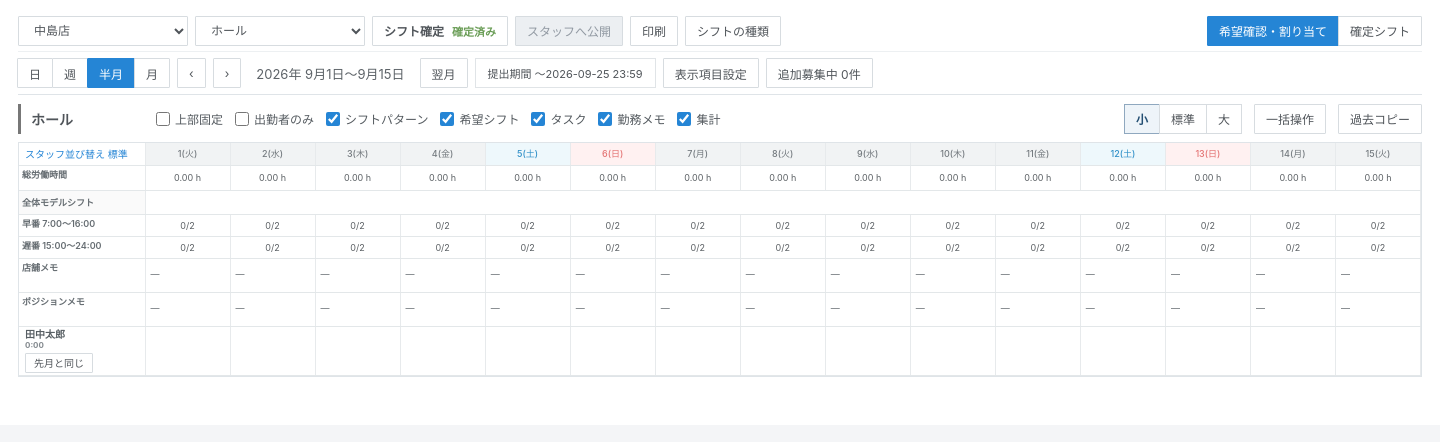
Test: 店舗を切り替えるとシフト表のスタッフも切り替わる
expect the text "田中太郎" is shown: met, box [25,328,65,340]
Select "新田店" in the dropdown named "店舗" at x=103, y=30, box [18,16,188,46]
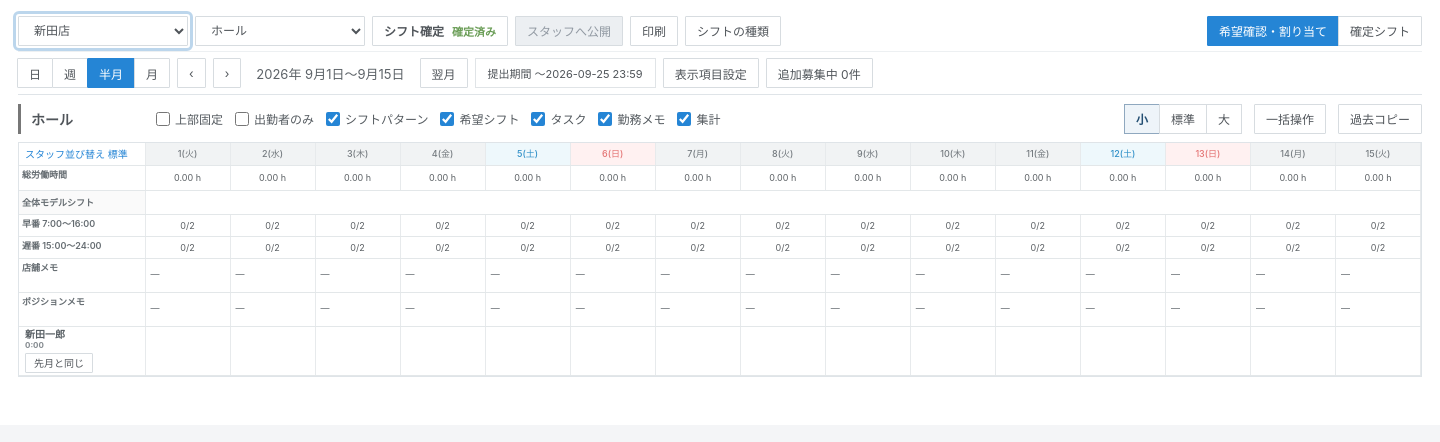
expect the text "新田一郎" is shown: met, box [25,328,65,340]
expect the text "田中太郎" is gone: met
